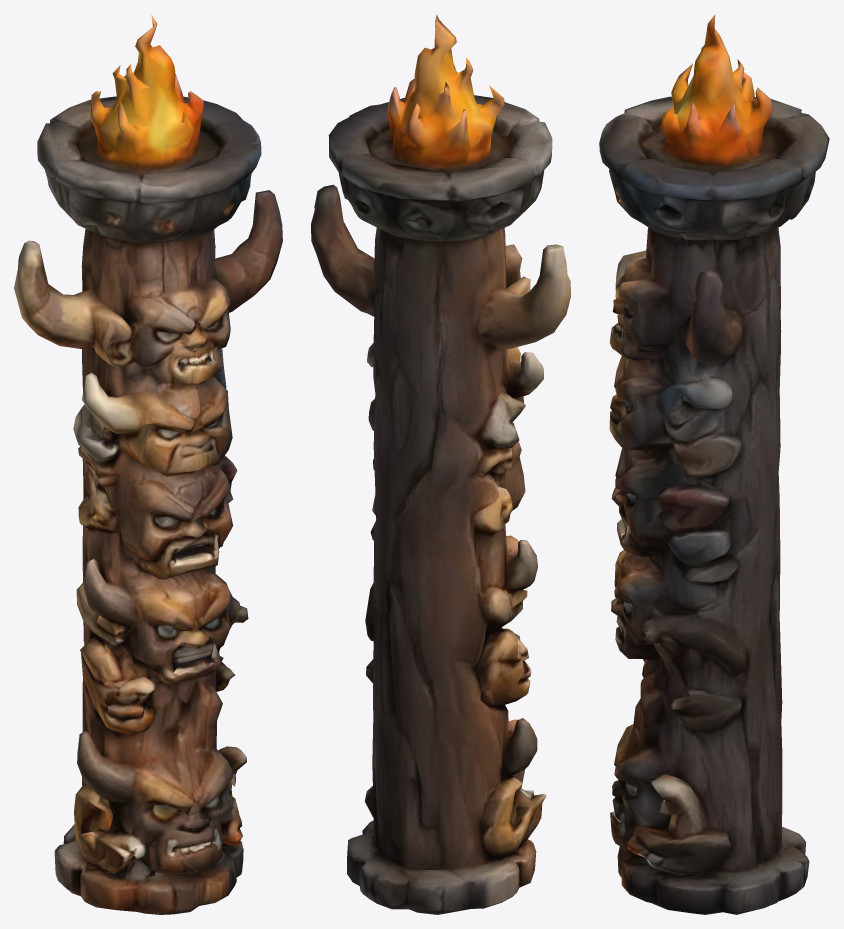
Rendered from orctotem.glb.
The picture shows the model from 3 angles, left to right: view 1: azimuth 30°, elevation 25°; view 2: azimuth 150°, elevation 25°; view 3: azimuth 270°, elevation 25°; orthographic projection.
Visible parts, largest first — view 1: tripo_node_ff4f8085-dc7b-470a-916e-85c11a5a0b70; view 2: tripo_node_ff4f8085-dc7b-470a-916e-85c11a5a0b70; view 3: tripo_node_ff4f8085-dc7b-470a-916e-85c11a5a0b70.
Boxes of the visible parts, <box> form: tripo_node_ff4f8085-dc7b-470a-916e-85c11a5a0b70: <box>14,14,282,914</box>; tripo_node_ff4f8085-dc7b-470a-916e-85c11a5a0b70: <box>311,14,570,914</box>; tripo_node_ff4f8085-dc7b-470a-916e-85c11a5a0b70: <box>599,14,829,914</box>.
Size of the model in its own units: 0.3111 by 0.9997 by 0.2404.
Materials: 1 (1 with a texture image).
